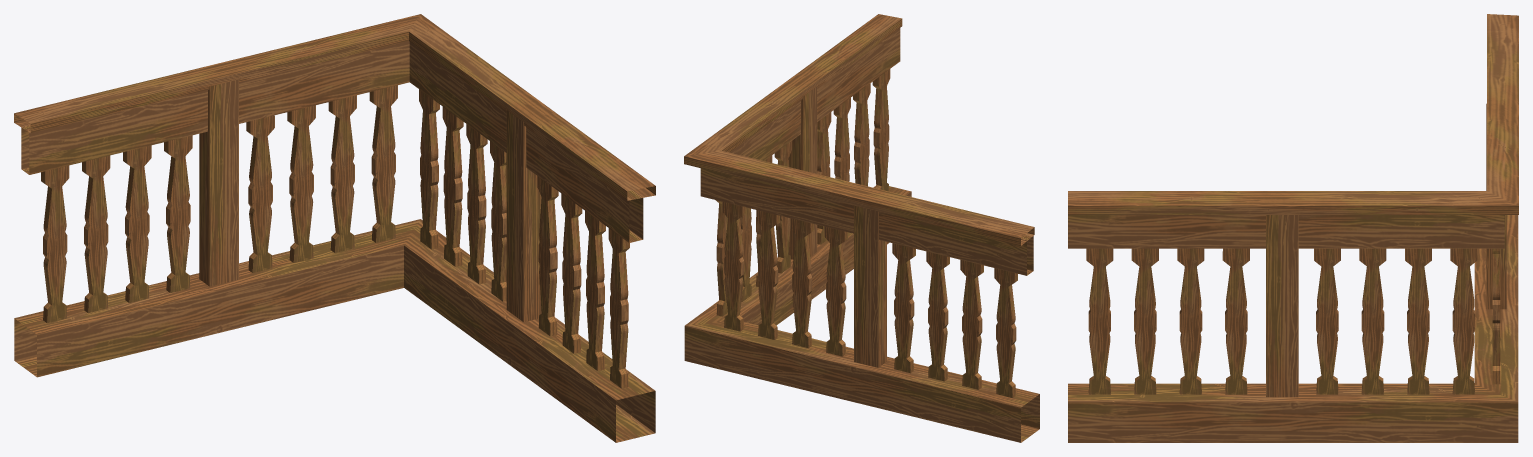
The model's file is balcony_simple_corner.glb.
3 renders of one model, left to right at view 1: azimuth 30°, elevation 25°; view 2: azimuth 150°, elevation 25°; view 3: azimuth 270°, elevation 25°, orthographic. The views are drawn at different scales.
Visible parts, largest first — view 1: Balcony_Simple_Corner; view 2: Balcony_Simple_Corner; view 3: Balcony_Simple_Corner.
Part boxes in pixels (x1,y1,x2,y2): Balcony_Simple_Corner: (14,14,655,442); Balcony_Simple_Corner: (684,14,1039,442); Balcony_Simple_Corner: (1068,14,1518,442).
Size of the model in its own units: 2.1 by 1.23 by 2.1.
Materials: 1 (1 with a texture image).
